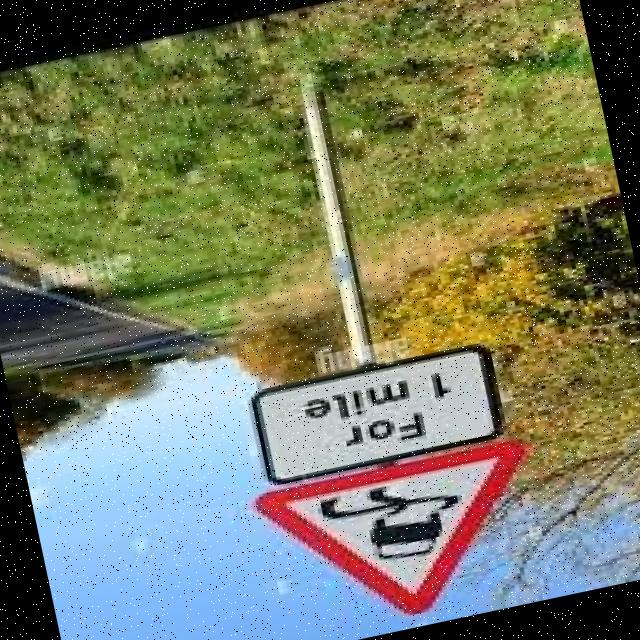road_slippery: (246, 431, 561, 640)
